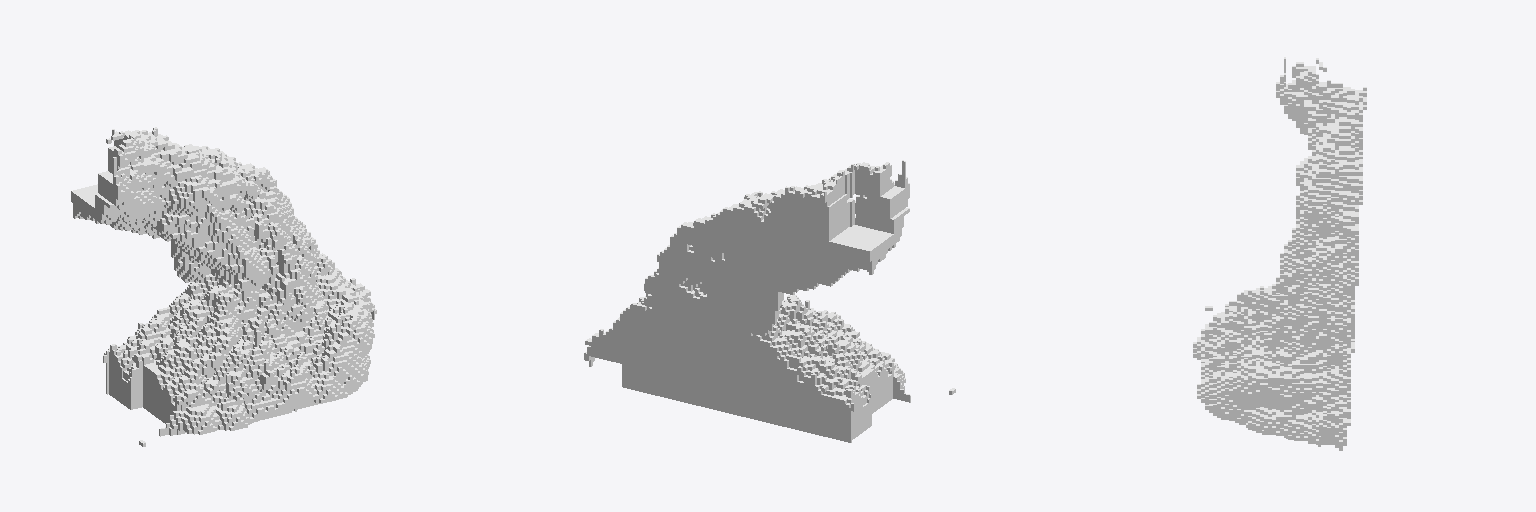
Rendered from Lava_stuff-15.obj.
The picture shows the model from 3 angles: view 1: azimuth 30°, elevation 25°; view 2: azimuth 150°, elevation 25°; view 3: azimuth 270°, elevation 25°; orthographic projection.
Parts seen in each view (by area): view 1: object 1; view 2: object 1; view 3: object 1.
Part boxes in pixels (x1,y1,x2,y2): object 1: (71,127,376,446); object 1: (584,160,955,442); object 1: (1193,57,1366,450).
Bounding box in the file's own units: 17.6 × 15 × 8.8.